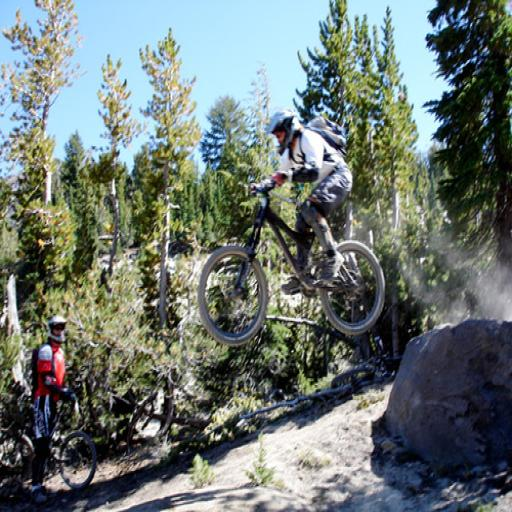bicycle: (196, 175, 393, 349), (0, 388, 96, 492)
person: (264, 102, 356, 290), (28, 312, 73, 502)
